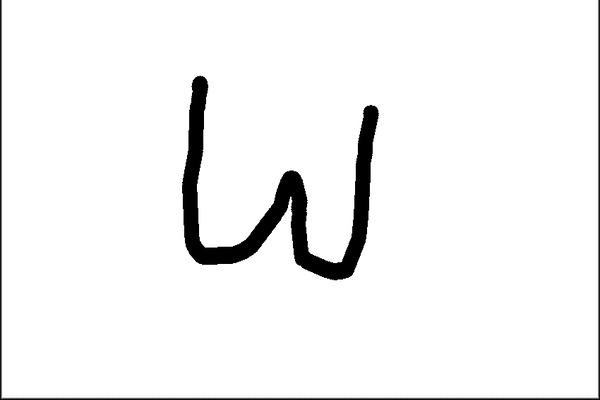w: (172, 53, 396, 288)
